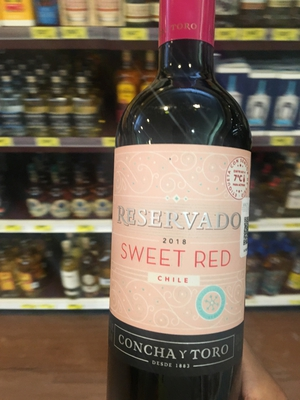reservado sweet red: (112, 8, 266, 392)
